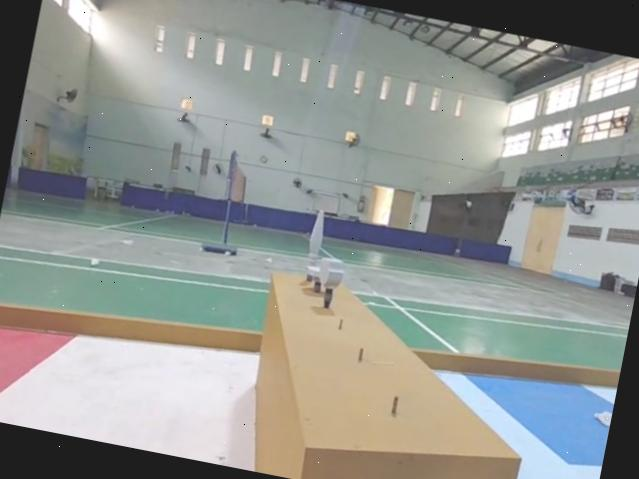Fist: (308, 251, 347, 314)
Sph: (294, 209, 330, 296)
